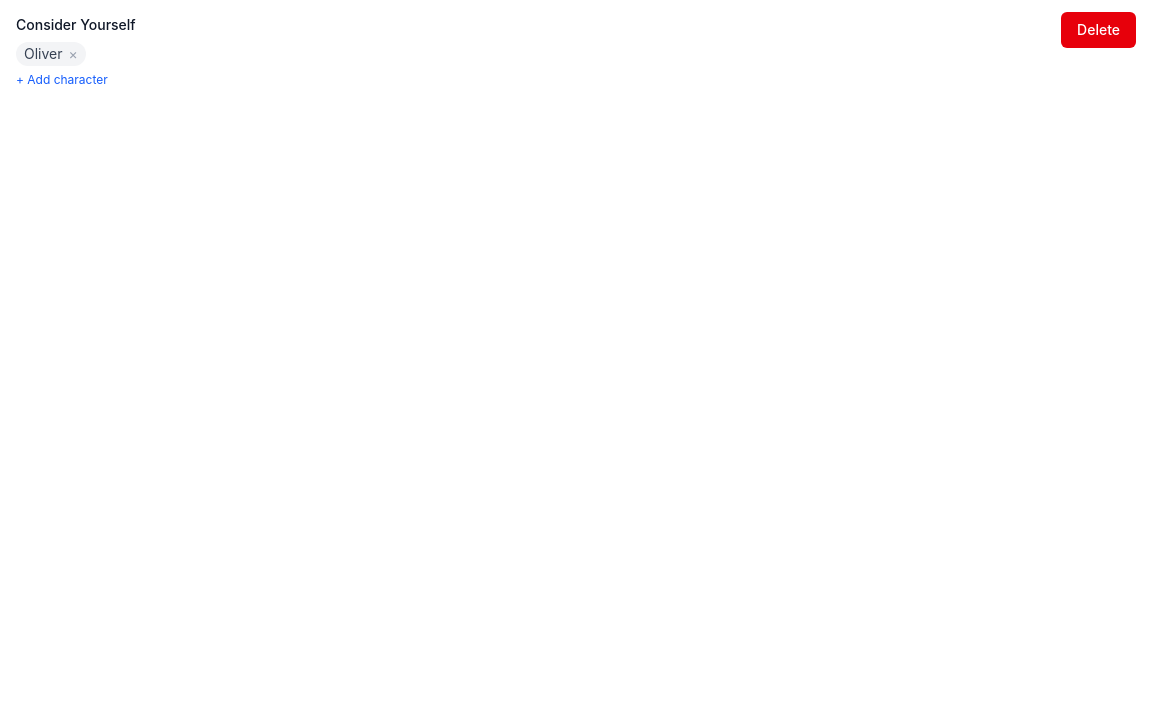
Test: SongItem — admin delete › shows a confirm dialog when Delete is clicked
Click the button "Delete" at (1099, 30), box [1061,12,1136,48]
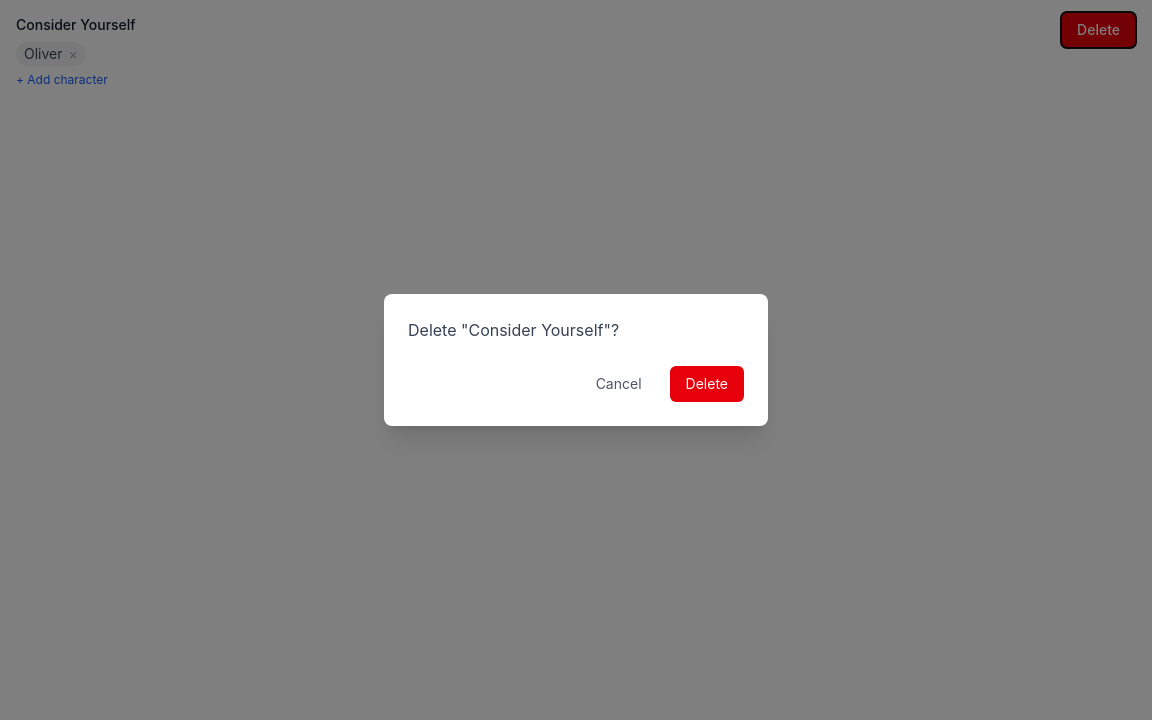
Expected: the text "Delete \"Consider Yourself\"?" is shown, [408,320,619,340]
